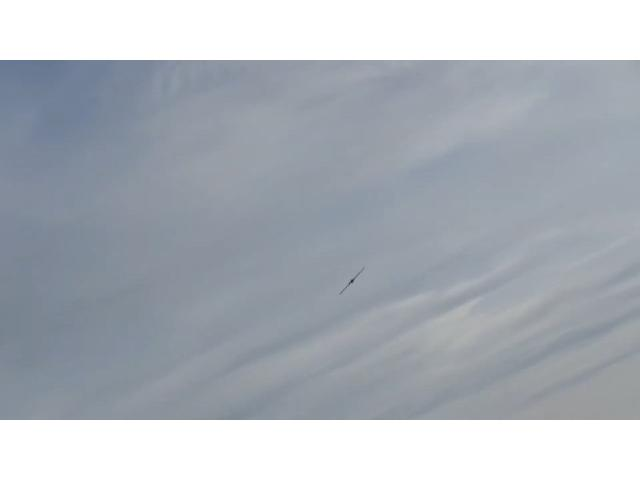Anti-Drone: (340, 266, 364, 296)
